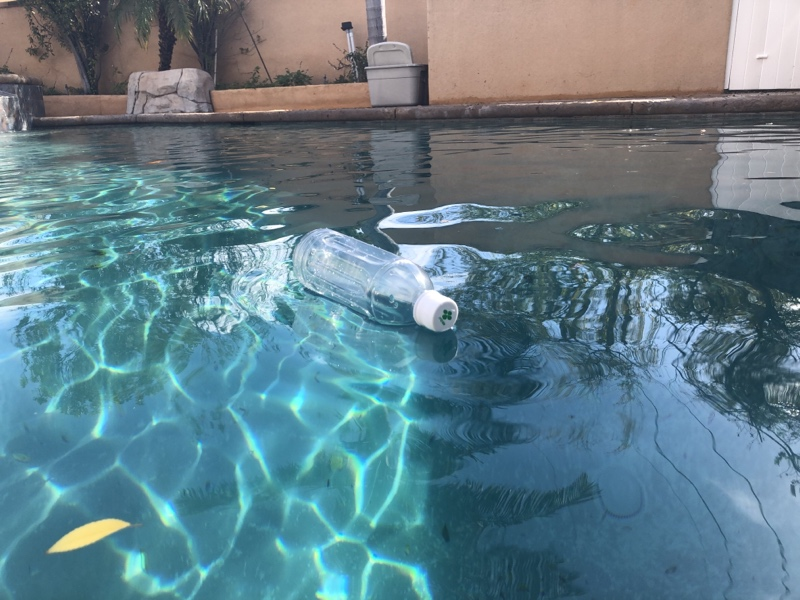Plastic Bottle: (289, 223, 460, 336)
